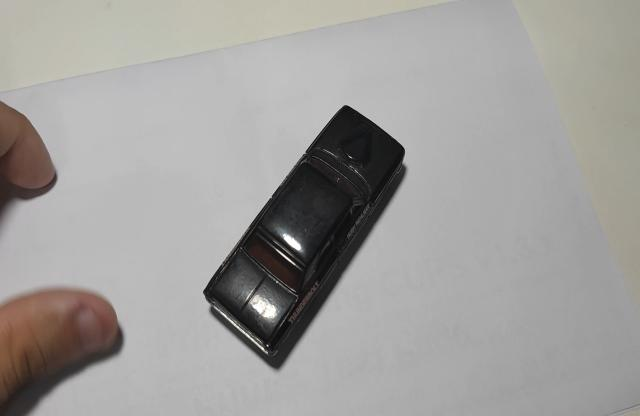01_FORD: (201, 106, 408, 372)
